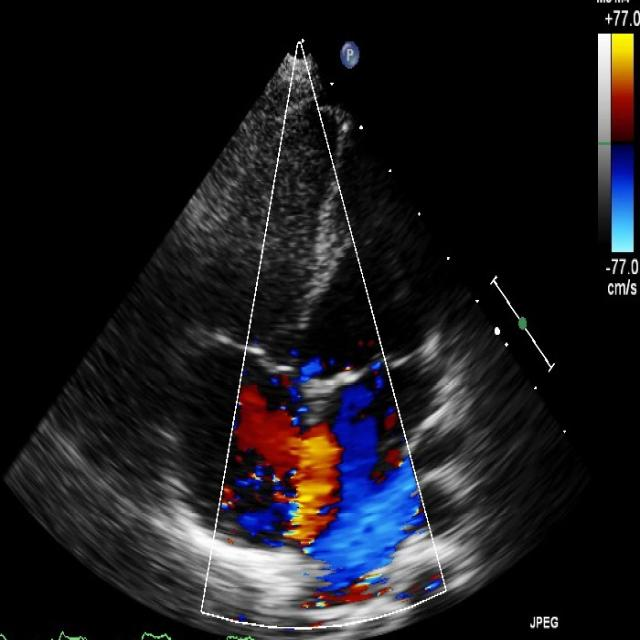ASDType2: (232, 352, 424, 576)
